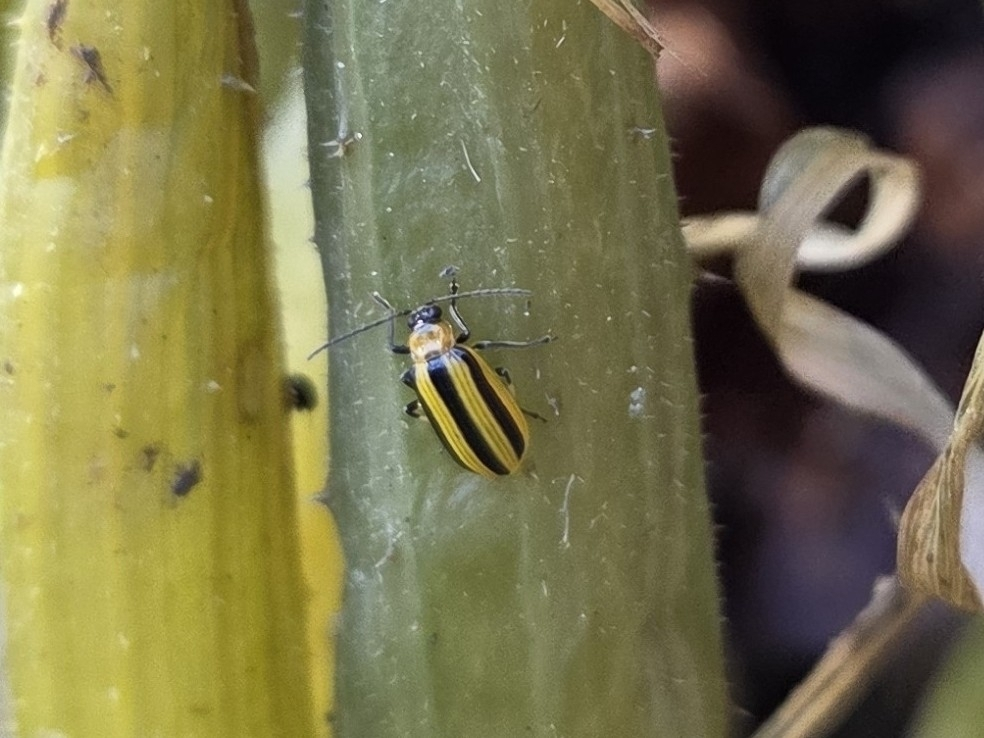potato_beetle: (256, 219, 619, 563)
